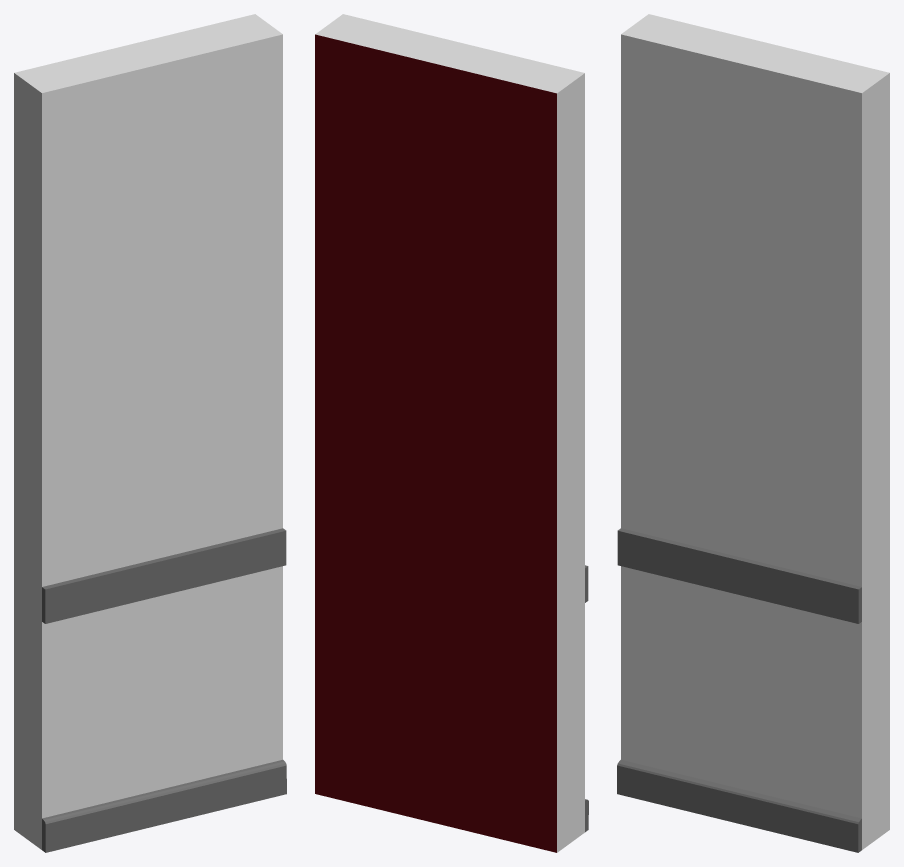
File: WandMitLeiste1_4.glb
3 views of the same model, side by side, from view 1: azimuth 30°, elevation 25°; view 2: azimuth 150°, elevation 25°; view 3: azimuth 330°, elevation 25° (orthographic).
Visible parts, largest first — view 1: Wand 1 * 4; view 2: Wand 1 * 4; view 3: Wand 1 * 4.
Part boxes in pixels (left/top/right/bottom): Wand 1 * 4: left=14, top=14, right=286, bottom=852; Wand 1 * 4: left=315, top=14, right=588, bottom=852; Wand 1 * 4: left=617, top=14, right=889, bottom=852.
Size of the model in its own units: 1 by 3 by 0.2269.
